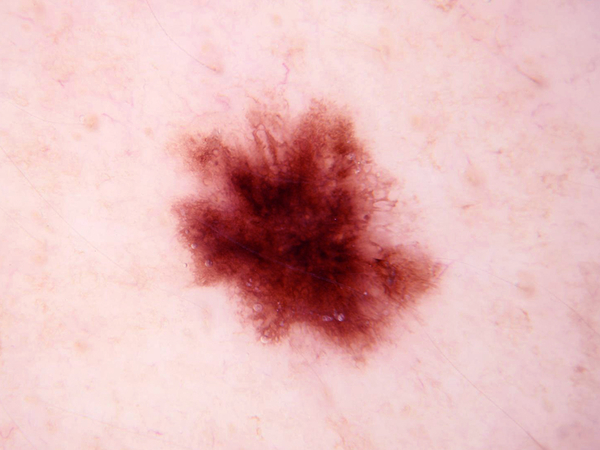Detected Lesion: (163, 94, 451, 361)
